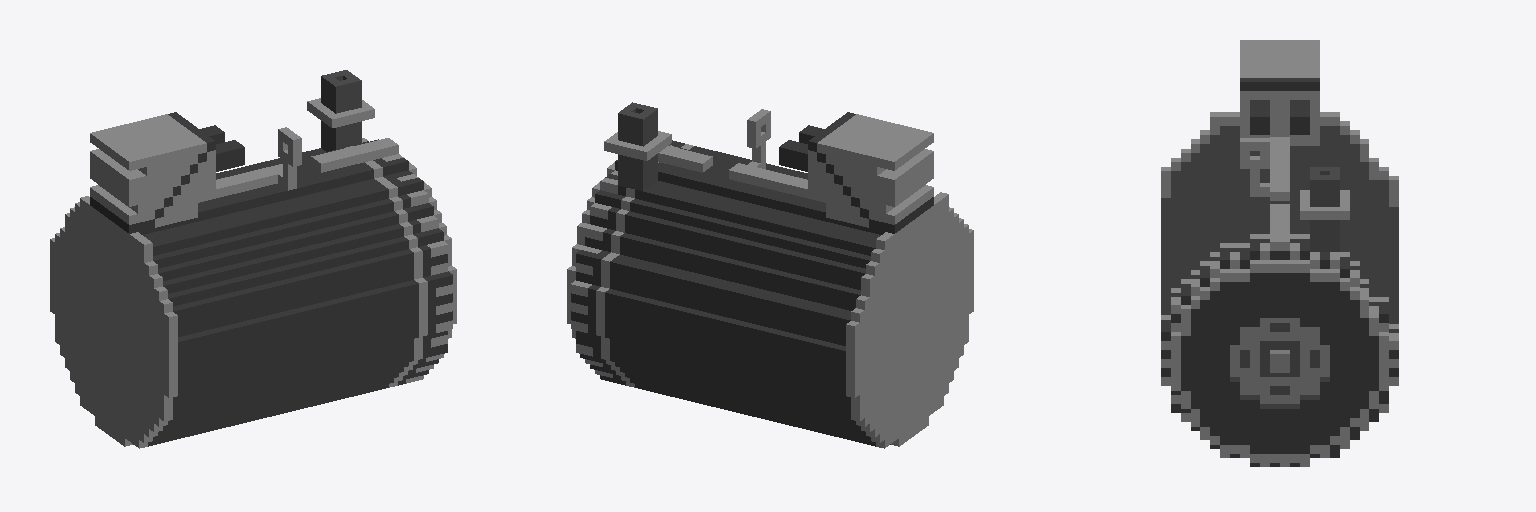
The picture shows the model from 3 angles: view 1: azimuth 30°, elevation 25°; view 2: azimuth 150°, elevation 25°; view 3: azimuth 270°, elevation 25°; orthographic projection.
Parts seen in each view (by area): view 1: object 1; view 2: object 1; view 3: object 1.
Boxes of the visible parts, x1=… form: object 1: x1=50, y1=70, x2=456, y2=448; object 1: x1=567, y1=102, x2=973, y2=448; object 1: x1=1161, y1=40, x2=1398, y2=466.
Size of the model in its own units: 3.4 by 3.2 by 2.4.
1 materials, 1 textured.